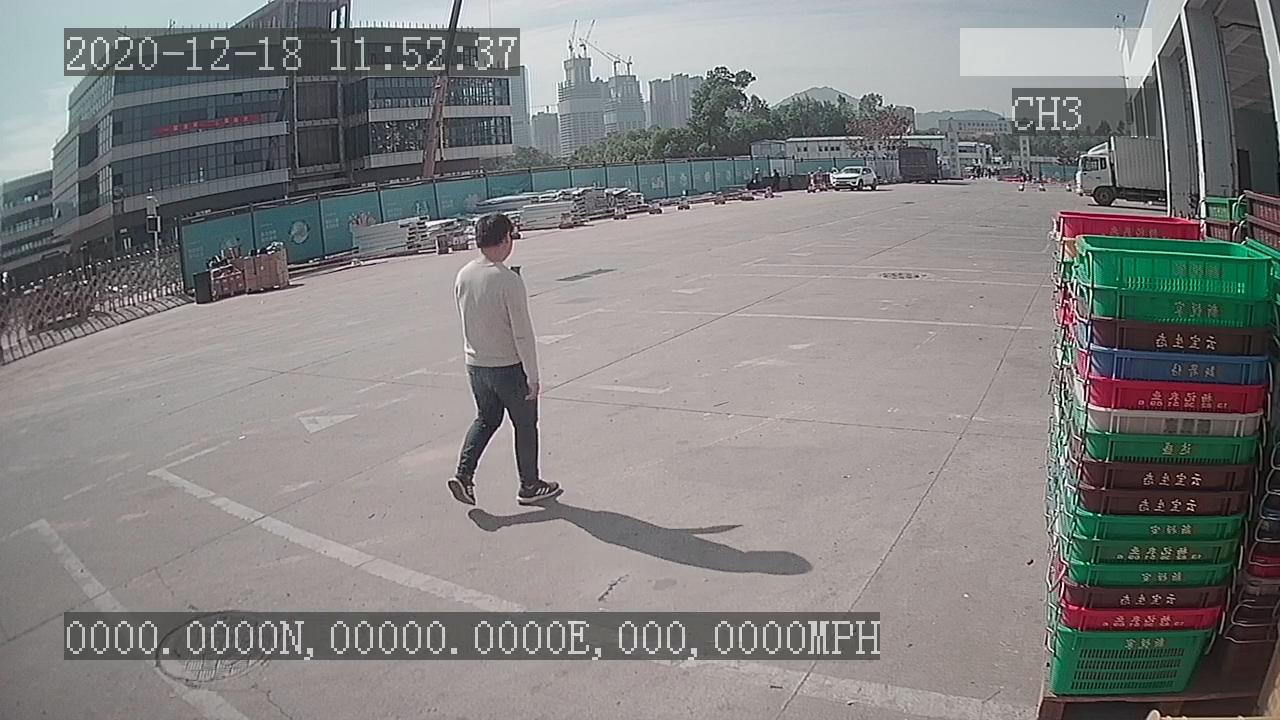person: (436, 211, 570, 520)
